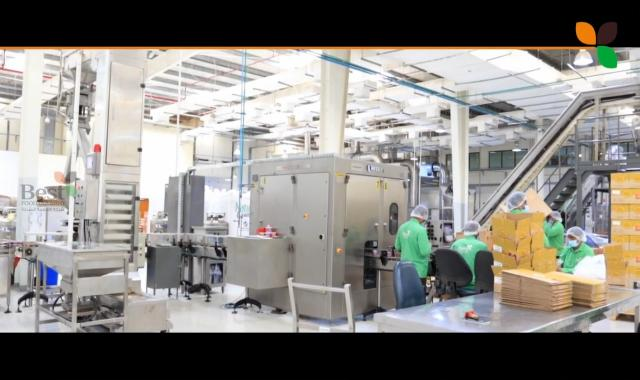hairnet: (568, 225, 588, 244), (508, 190, 526, 208), (412, 204, 429, 221), (465, 222, 483, 238), (411, 205, 429, 220), (547, 210, 560, 223)
